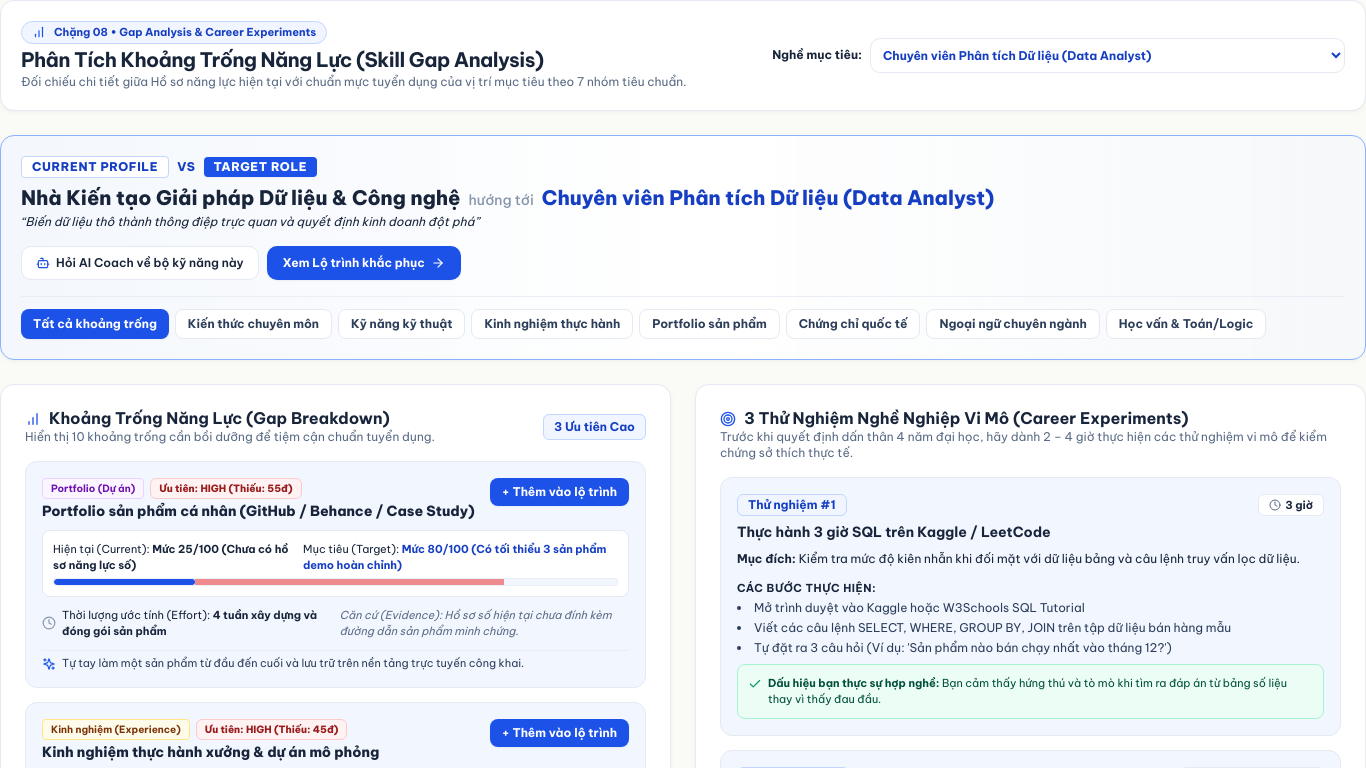
Test: MODULE PROMPT 07 — GAP ANALYSIS, ROADMAP & AI COACH › A. GAP ANALYSIS › displays current, target, priority, effort, evidence and CTA 'Thêm vào lộ trình' for each gap
Check: the text "Mục tiêu" is shown, box [21, 74, 686, 89]
Check: the text "Thời lượng ước tính" is shown, box [62, 608, 210, 622]
// Clicking CTA should show feedback state
Click the button "+ Thêm vào lộ trình" in the row of "55" at (559, 492), box [490, 478, 629, 506]
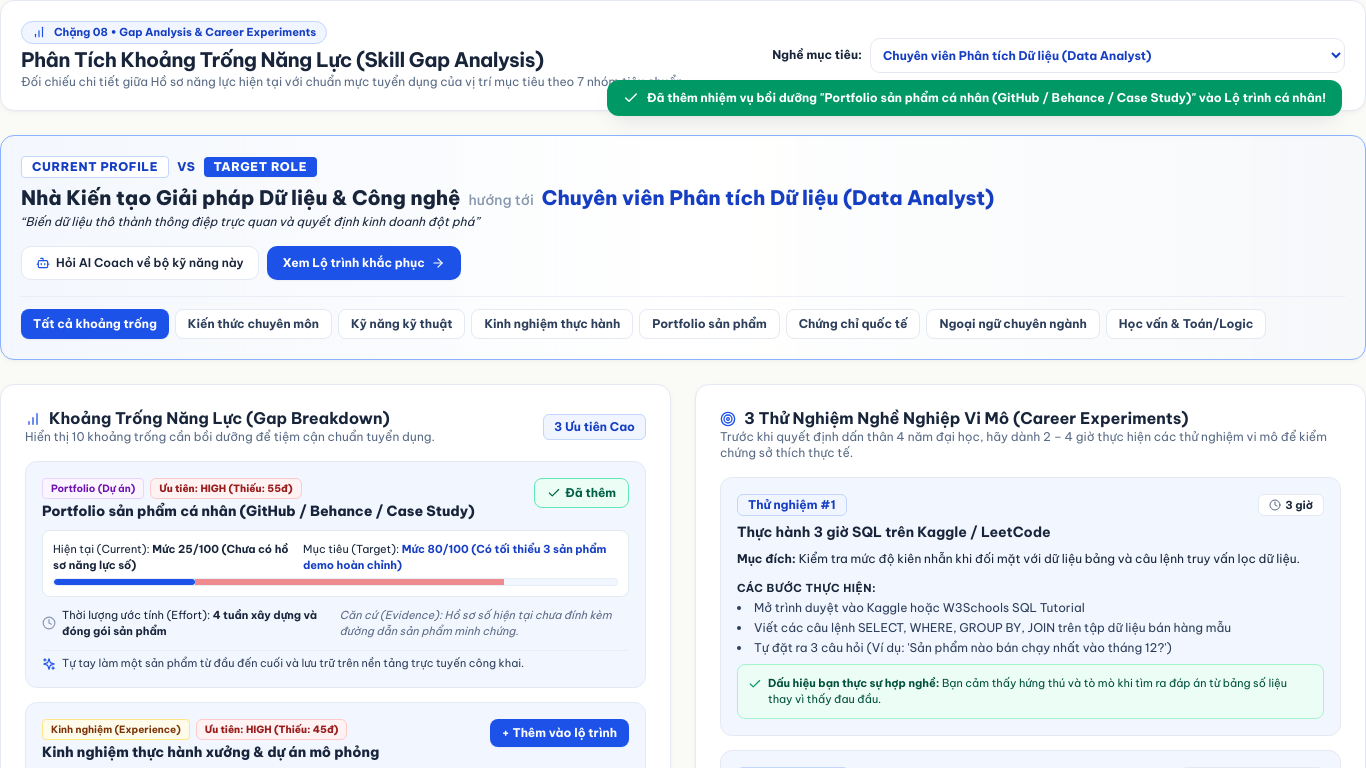
Check: the text "Đã thêm" is shown, box [647, 90, 1326, 105]
